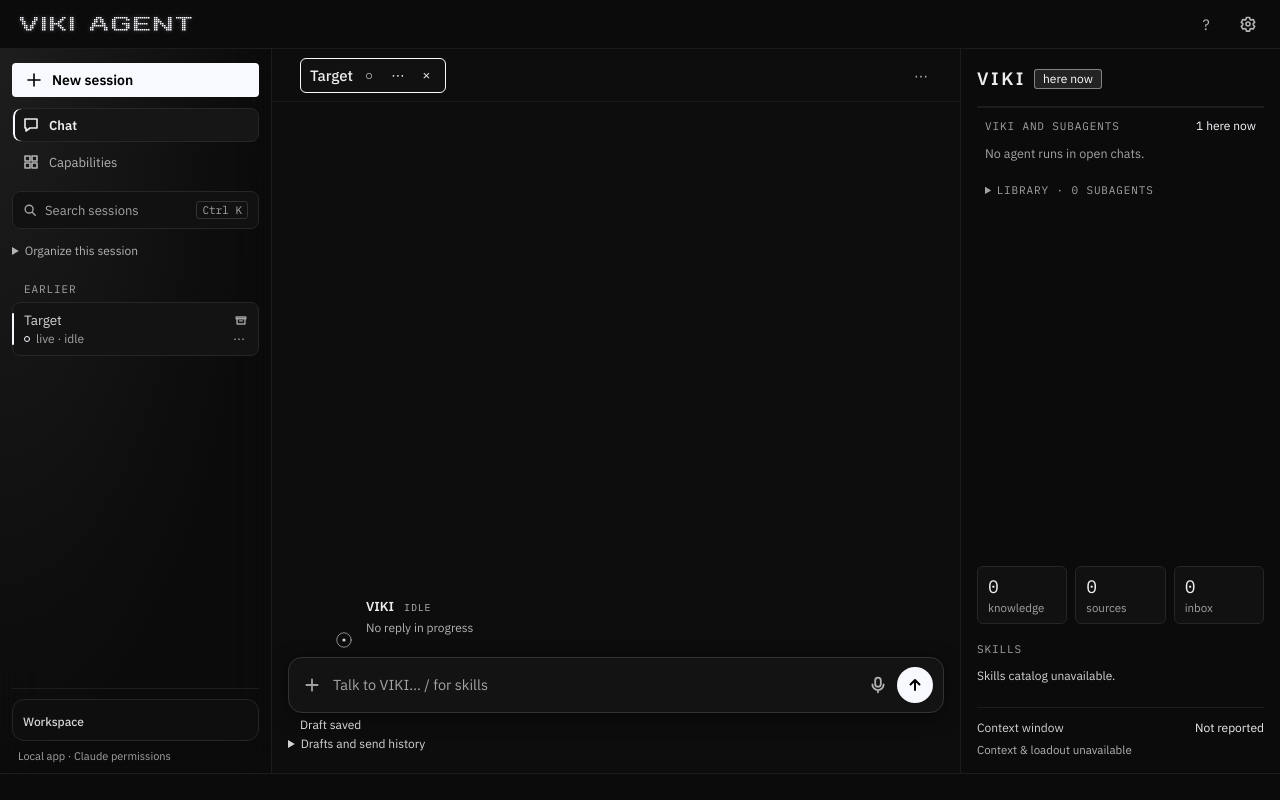
Test: a tab retry clears the old refusal while pending and after a successful open
Click the 1st button "⋯": point(398, 75) [385, 66, 410, 84]
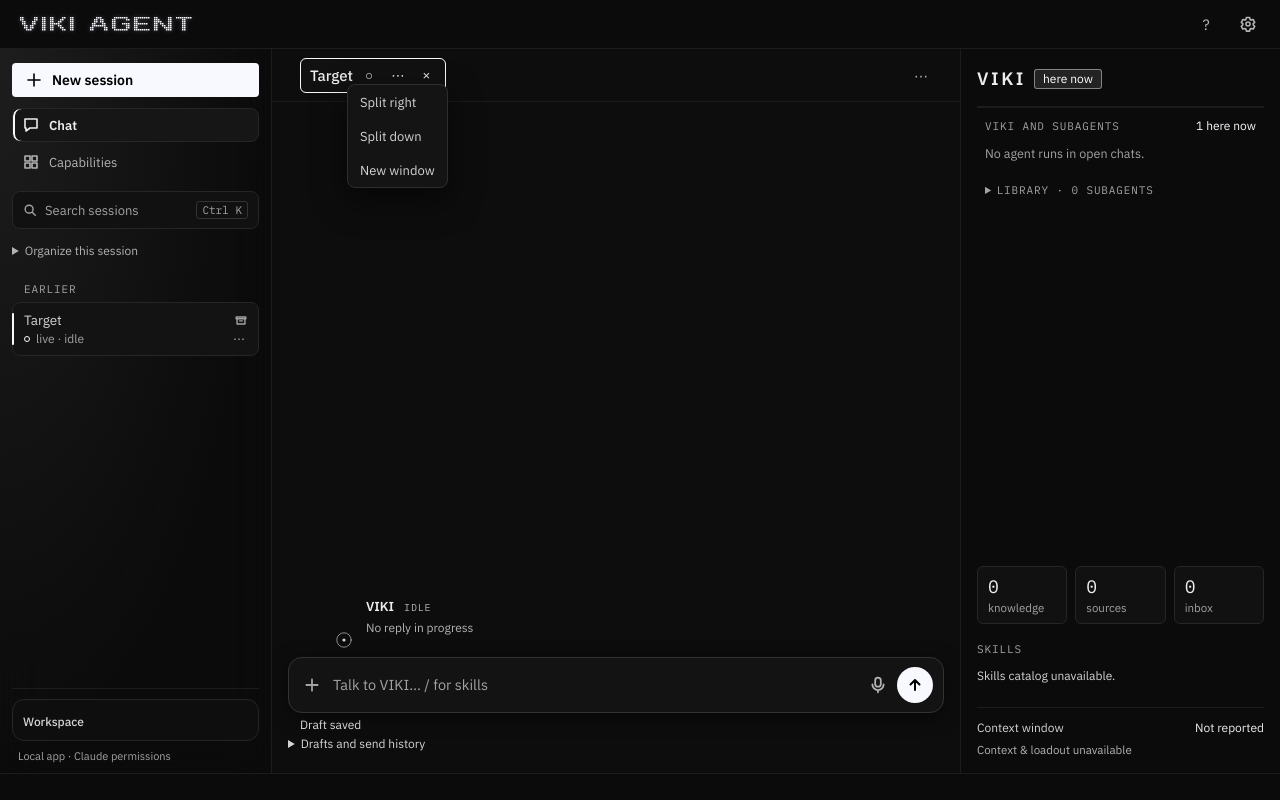
Click the menu item "New window": point(397, 170) [360, 162, 435, 178]
Wait 1 ms
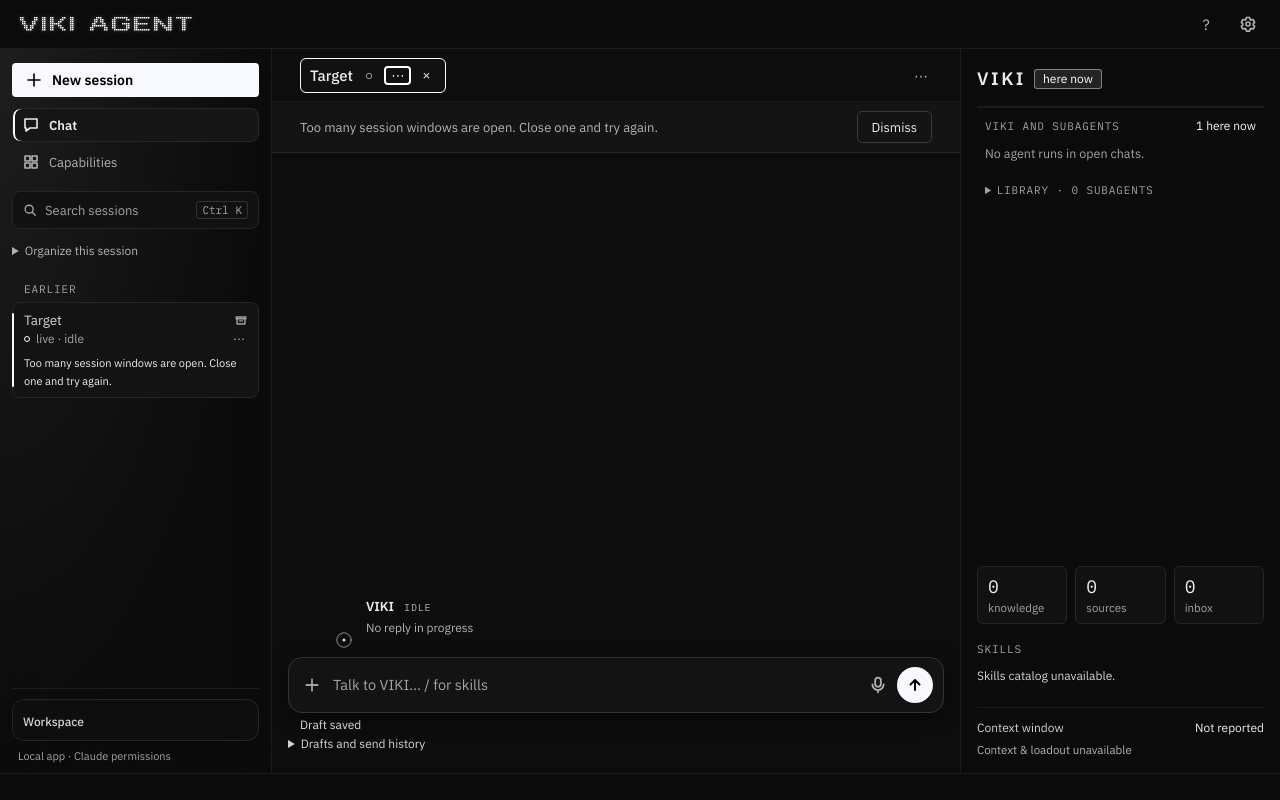
Now the text "Too many session windows are open. Close one and try again." is shown 2 times, box [24, 354, 247, 390]; [300, 118, 658, 136]
Click the 1st button "⋯": point(398, 75) [385, 66, 410, 84]
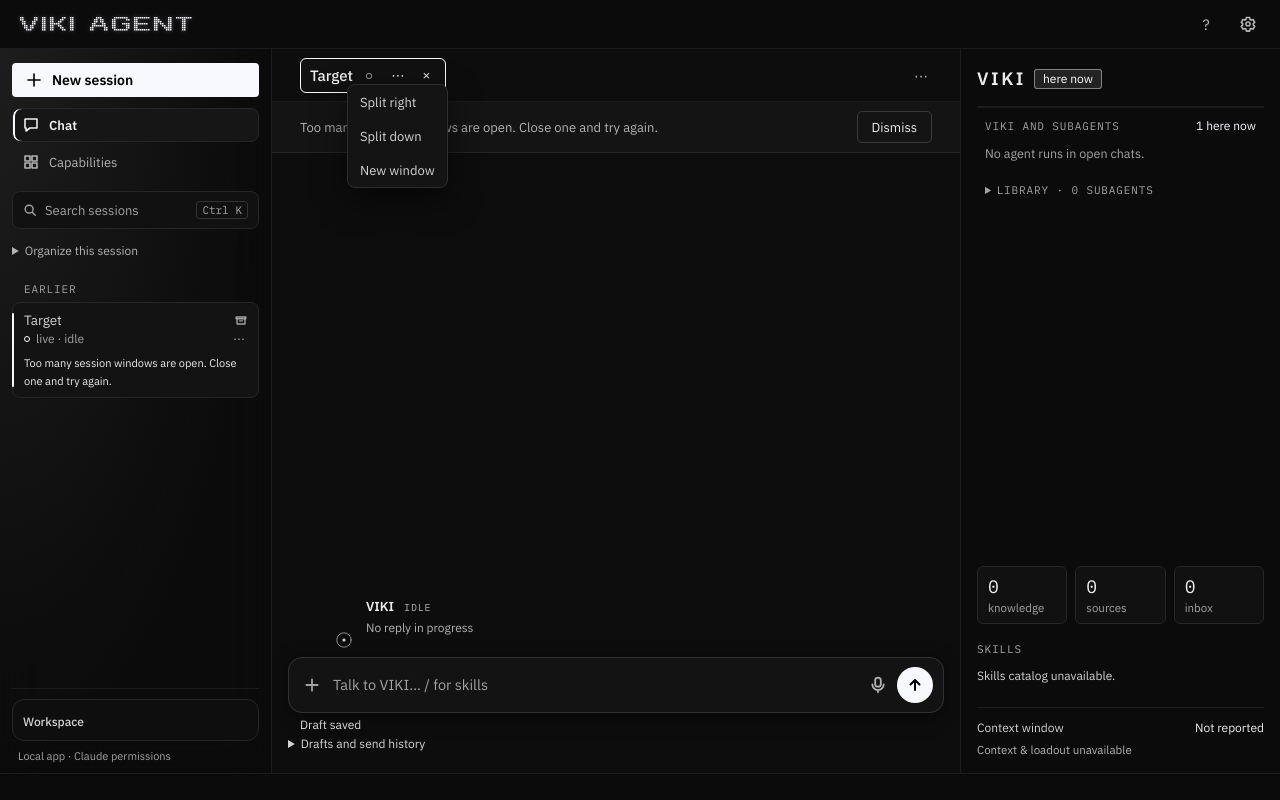
Click the menu item "New window": point(397, 170) [360, 162, 435, 178]
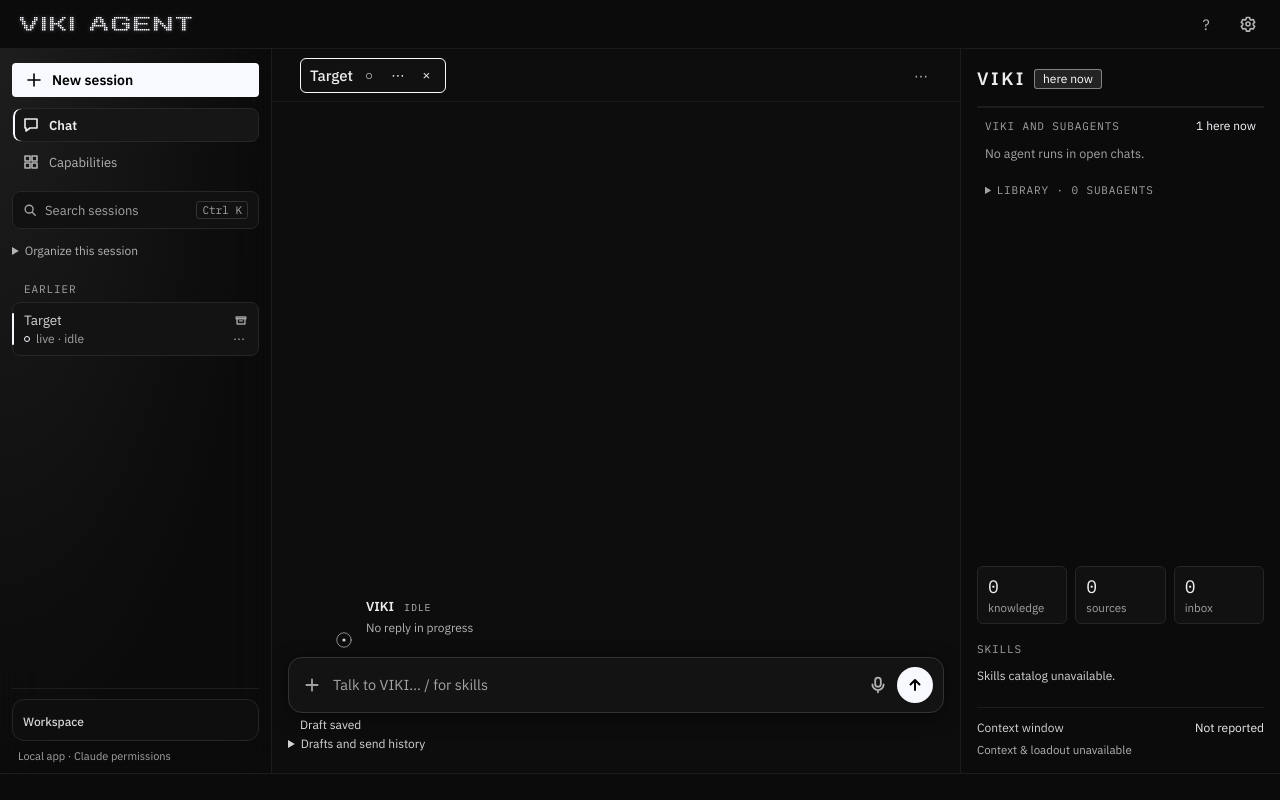
Now the text "Too many session windows are open. Close one and try again." is gone
